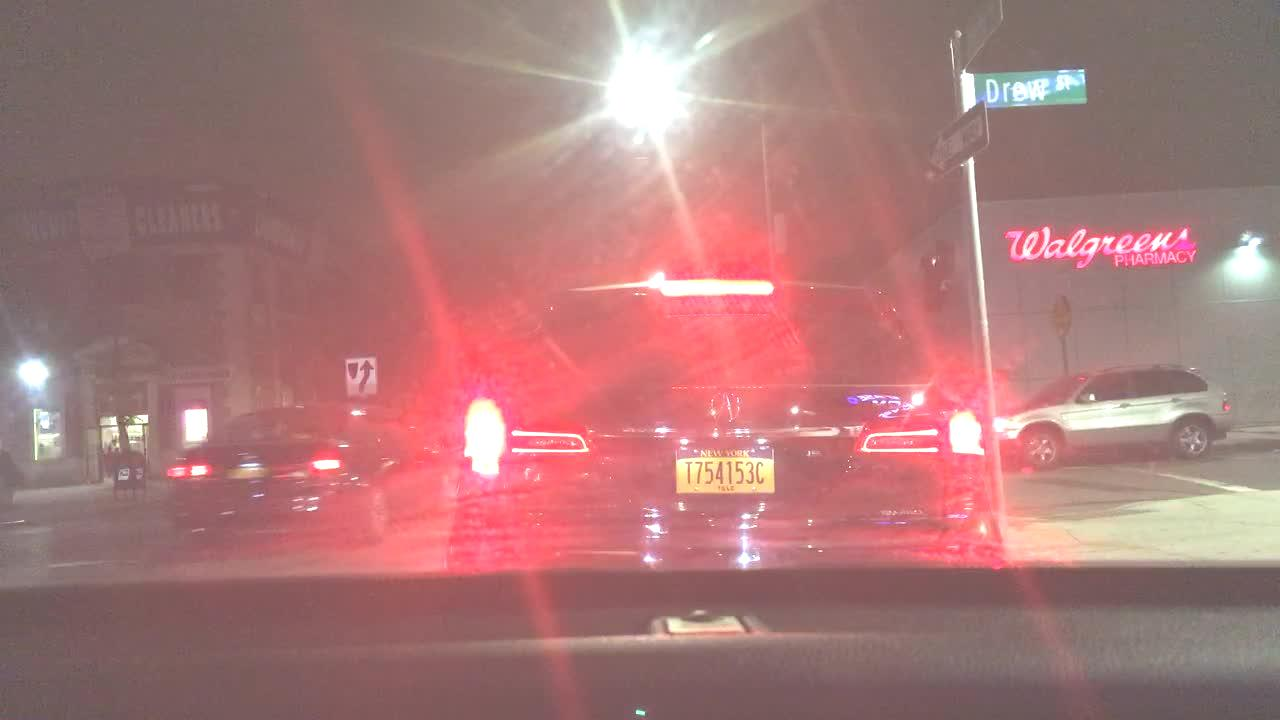acura: (704, 390, 748, 430)
